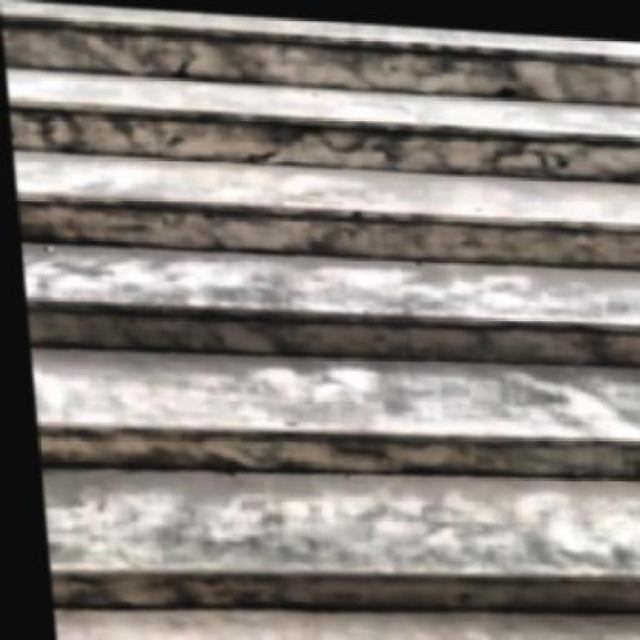stair: (7, 5, 638, 609)
